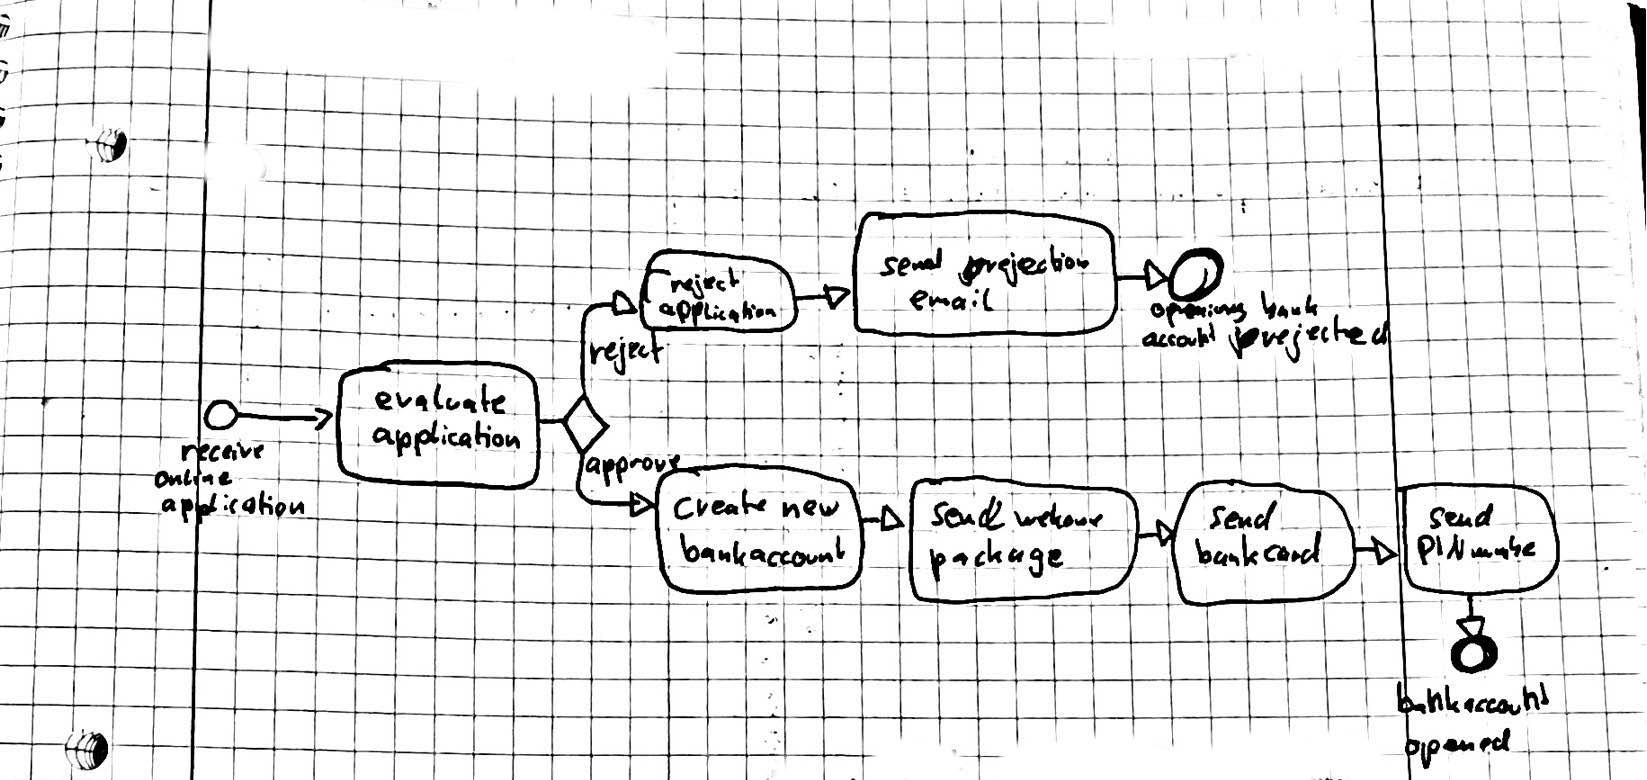PIN: (1416, 535, 1471, 566)
account: (1463, 675, 1559, 720), (1127, 322, 1226, 356)
application: (369, 420, 523, 463), (152, 490, 307, 522), (660, 296, 778, 326)
approve: (583, 449, 682, 487)
bank: (1191, 528, 1263, 573), (1392, 677, 1460, 720), (1262, 287, 1320, 321)
bankaccount: (682, 536, 847, 568)
card: (1258, 530, 1325, 570)
create: (672, 487, 774, 527)
email: (911, 284, 999, 315)
evaluate: (369, 378, 522, 423)
new: (780, 487, 842, 526)
number: (1465, 529, 1549, 572)
online: (157, 464, 238, 492)
opened: (1401, 728, 1521, 771)
opening: (1149, 293, 1259, 328)
package: (925, 535, 1078, 582)
projection: (953, 243, 1100, 290)
receive: (180, 439, 267, 465)
reject: (583, 329, 667, 374), (668, 263, 741, 298)
rejected: (1266, 313, 1390, 364)
send: (925, 496, 1012, 535), (877, 243, 957, 283), (1203, 498, 1283, 534), (1429, 504, 1498, 531)
welcome: (1009, 492, 1107, 536)
